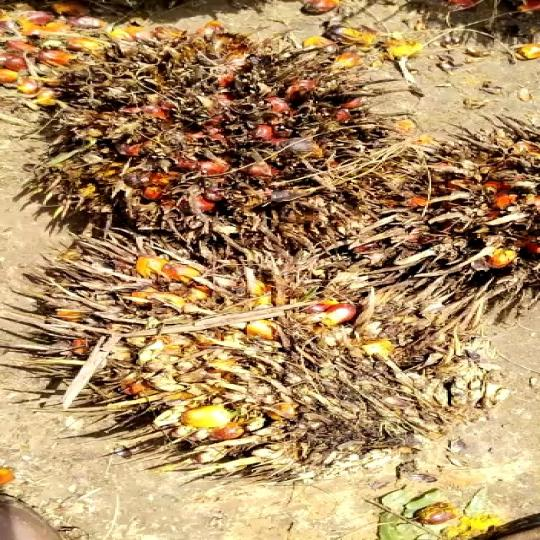terlalu masak: (6, 253, 495, 477), (19, 28, 388, 248)
